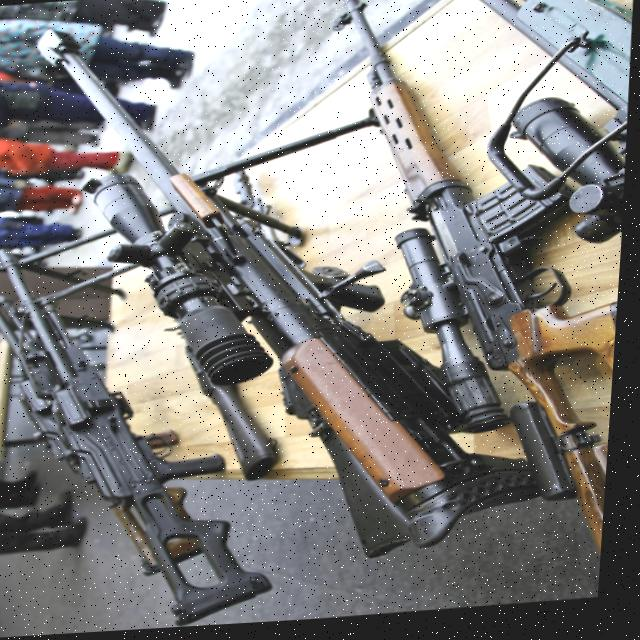firearm: (5, 0, 578, 588), (296, 0, 640, 597), (0, 228, 300, 640), (0, 243, 210, 592), (388, 0, 639, 291), (182, 340, 293, 490)
